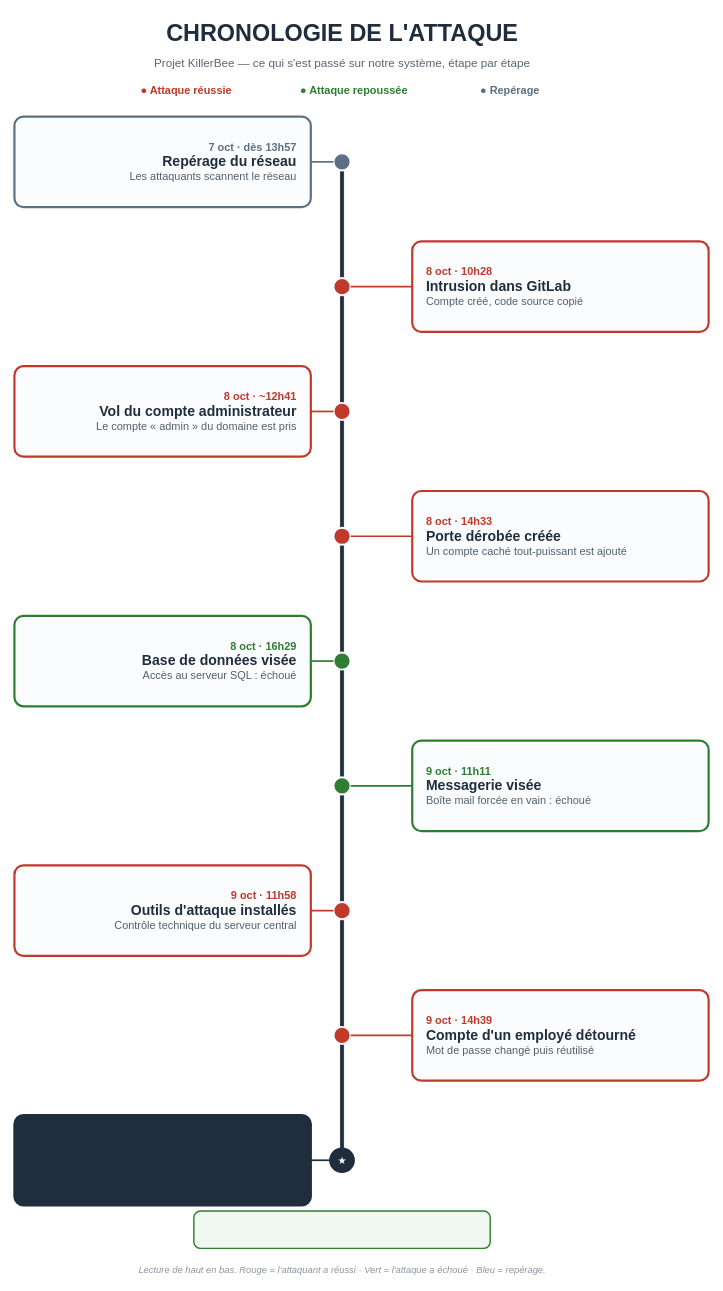
Some shapes in this 723 by 1291 pixel diagram are drawn without their labels. The centre of each missing label's shape, as x and y in pixels:
"Téléphonie (VoIP) : aucune attaque détectée" belongs at point (342, 1229).
"★ T0 · 12 oct · 10h33 Prise de contrôle à distance Connexion au cœur du système" belongs at point (162, 1160).
